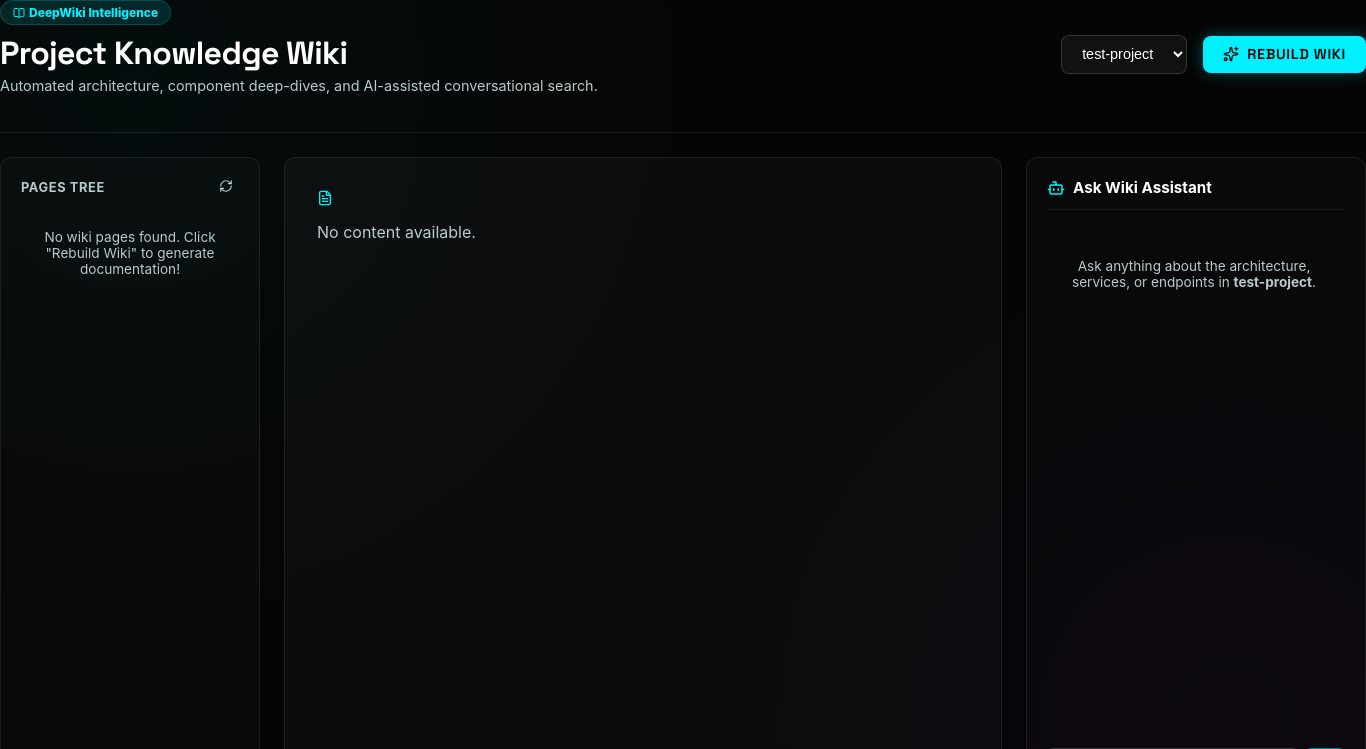
WikiView Component › preserves saved presets unless deletion is confirmed (true)
Click the button "Rebuild Wiki": (1285, 54) [1203,36,1365,73]
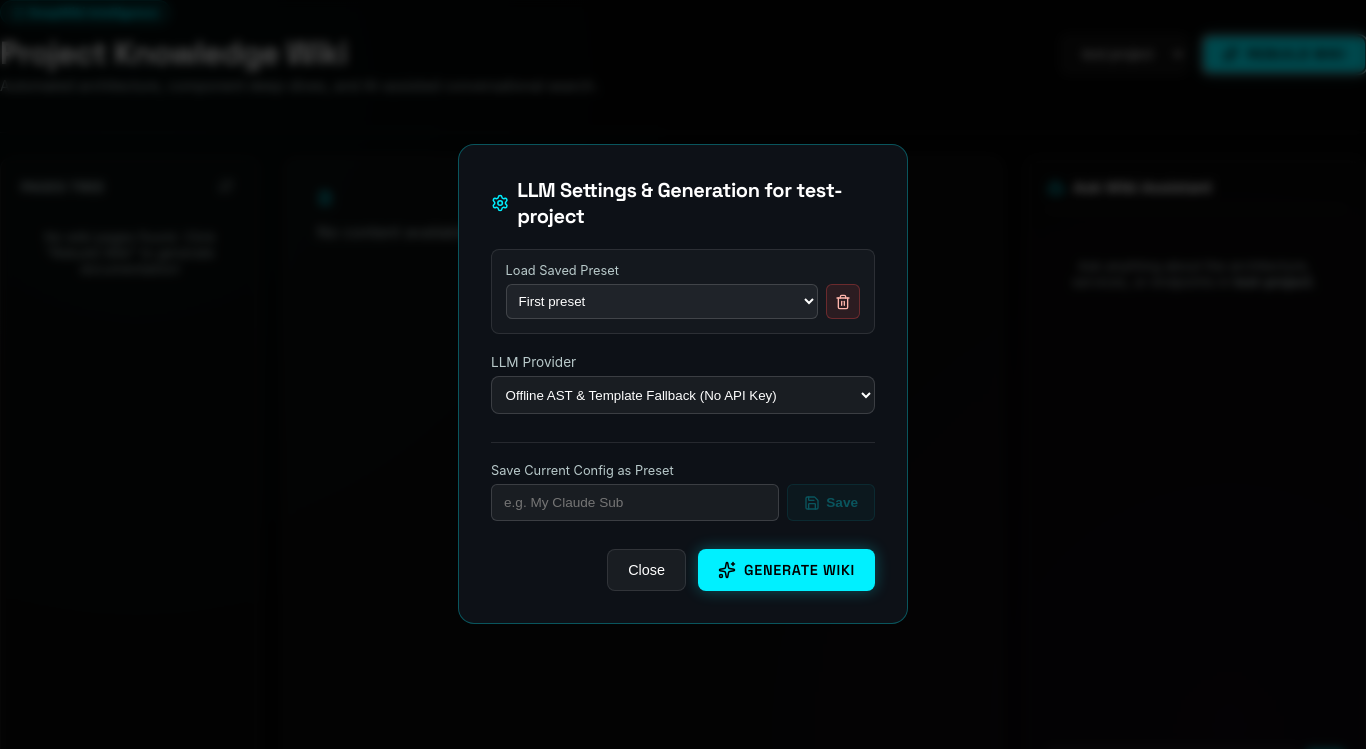
Click the button named "Delete selected preset": (843, 302) [826,284,860,319]
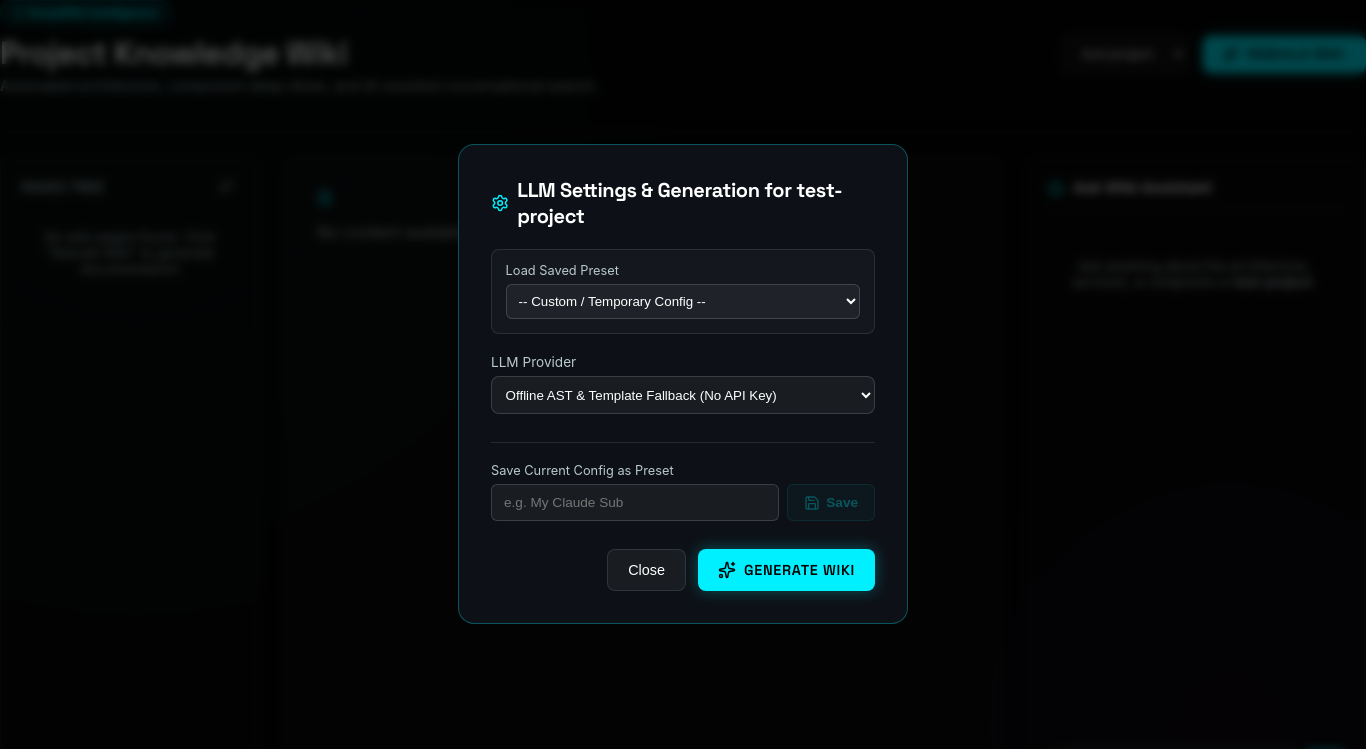
Expected: the option "First preset" is not shown
Result: the dropdown named "Load Saved Preset" shows "-- Custom / Temporary Config --" at [506,284,860,319]
